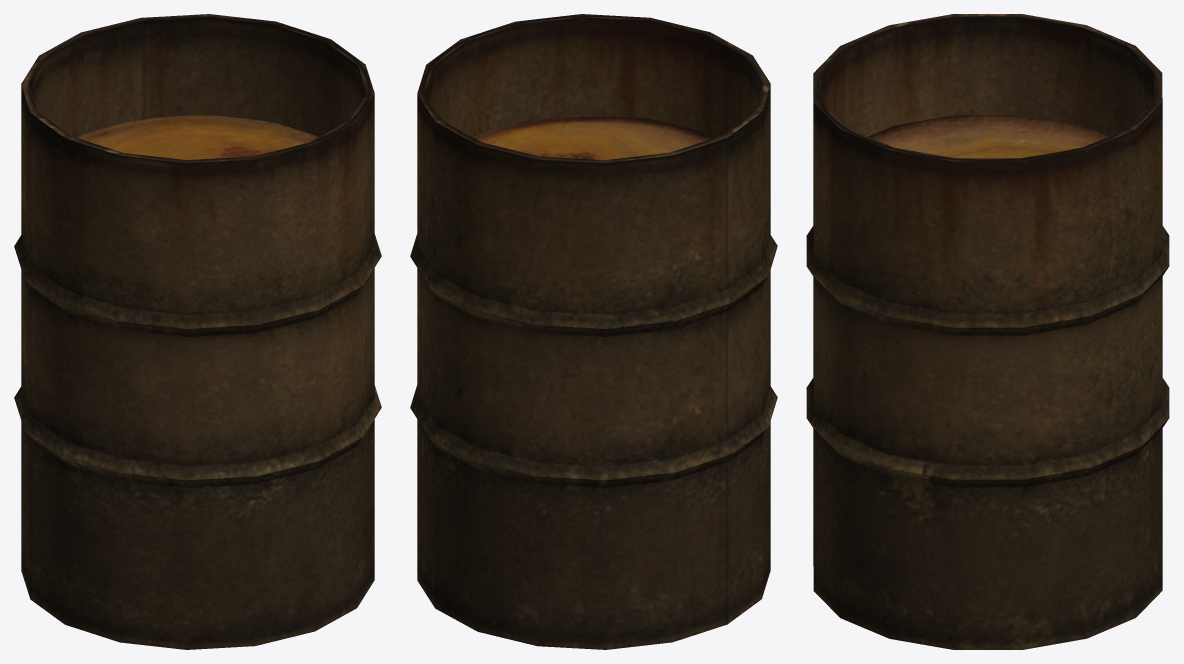
The model's file is metal_barrel_hr_3.obj.
3 renders of one model, left to right at view 1: azimuth 30°, elevation 25°; view 2: azimuth 150°, elevation 25°; view 3: azimuth 270°, elevation 25°, orthographic.
Parts seen in each view (by area): view 1: metal_barrel_hr_3; view 2: metal_barrel_hr_3; view 3: metal_barrel_hr_3.
Boxes of the visible parts, x1,y1,x2,y2 form: metal_barrel_hr_3: (14,14,381,649); metal_barrel_hr_3: (410,14,777,649); metal_barrel_hr_3: (806,14,1169,649).
Bounding box in the file's own units: 0.6735 × 1 × 0.6735.
